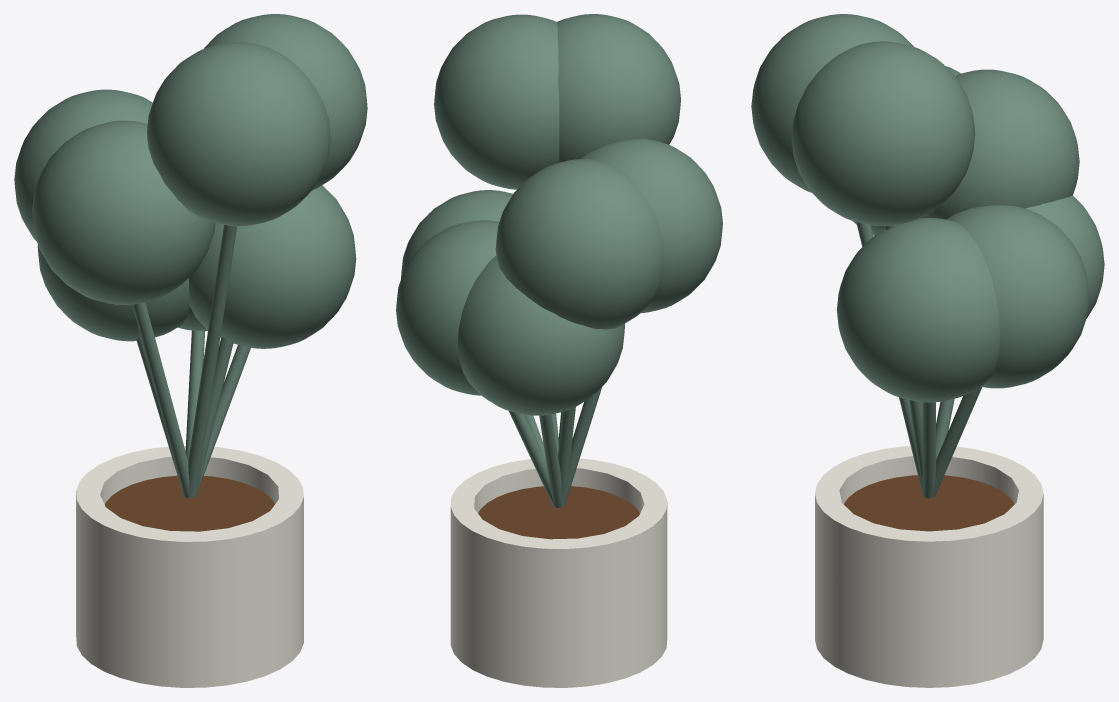
The model's file is kitchen-herb-planter.gltf.
The picture shows the model from 3 angles, left to right: view 1: azimuth 30°, elevation 25°; view 2: azimuth 150°, elevation 25°; view 3: azimuth 270°, elevation 25°; orthographic projection. The views are drawn at different scales.
Visible parts, largest first — view 1: Kitchen herb pot, Kitchen herb pot leaf 2, Kitchen herb pot leaf 4, Kitchen herb pot leaf 0, Kitchen herb pot leaf 5, Kitchen herb pot soil, Kitchen herb pot leaf 1, Kitchen herb pot leaf 6, Kitchen herb pot stem 2, Kitchen herb pot stem 4, Kitchen herb pot stem 0, Kitchen herb pot stem 3 (+1 smaller); view 2: Kitchen herb pot, Kitchen herb pot leaf 1, Kitchen herb pot leaf 5, Kitchen herb pot leaf 6, Kitchen herb pot leaf 2, Kitchen herb pot leaf 4, Kitchen herb pot leaf 3, Kitchen herb pot soil, Kitchen herb pot leaf 0, Kitchen herb pot stem 6, Kitchen herb pot stem 4, Kitchen herb pot stem 3 (+1 smaller); view 3: Kitchen herb pot, Kitchen herb pot leaf 5, Kitchen herb pot leaf 0, Kitchen herb pot leaf 3, Kitchen herb pot leaf 1, Kitchen herb pot leaf 2, Kitchen herb pot soil, Kitchen herb pot leaf 6, Kitchen herb pot stem 3, Kitchen herb pot stem 0, Kitchen herb pot stem 2, Kitchen herb pot stem 5 (+1 smaller).
Boxes of the visible parts, x1,y1,x2,y2 form: Kitchen herb pot: [76, 446, 303, 687]; Kitchen herb pot leaf 2: [147, 42, 330, 226]; Kitchen herb pot leaf 4: [32, 120, 215, 304]; Kitchen herb pot leaf 0: [189, 185, 356, 348]; Kitchen herb pot leaf 5: [204, 14, 367, 190]; Kitchen herb pot soil: [105, 475, 274, 531]; Kitchen herb pot leaf 1: [14, 89, 152, 241]; Kitchen herb pot leaf 6: [37, 245, 189, 341]; Kitchen herb pot stem 2: [188, 225, 236, 497]; Kitchen herb pot stem 4: [132, 302, 190, 497]; Kitchen herb pot stem 0: [195, 345, 250, 496]; Kitchen herb pot stem 3: [185, 330, 205, 460]; Kitchen herb pot: [450, 458, 667, 687]; Kitchen herb pot leaf 1: [495, 159, 664, 329]; Kitchen herb pot leaf 5: [434, 14, 559, 189]; Kitchen herb pot leaf 6: [457, 256, 624, 415]; Kitchen herb pot leaf 2: [557, 14, 680, 162]; Kitchen herb pot leaf 4: [580, 138, 722, 313]; Kitchen herb pot leaf 3: [396, 220, 499, 395]; Kitchen herb pot soil: [478, 486, 639, 539]; Kitchen herb pot leaf 0: [401, 190, 512, 278]; Kitchen herb pot stem 6: [539, 414, 562, 507]; Kitchen herb pot stem 4: [562, 387, 601, 506]; Kitchen herb pot stem 3: [508, 411, 554, 506]; Kitchen herb pot: [815, 446, 1043, 687]; Kitchen herb pot leaf 5: [791, 41, 975, 225]; Kitchen herb pot leaf 0: [836, 217, 999, 402]; Kitchen herb pot leaf 3: [946, 205, 1089, 388]; Kitchen herb pot leaf 1: [928, 69, 1079, 219]; Kitchen herb pot leaf 2: [751, 14, 913, 192]; Kitchen herb pot soil: [843, 475, 1014, 531]; Kitchen herb pot leaf 6: [1025, 195, 1104, 318]; Kitchen herb pot stem 3: [931, 386, 981, 497]; Kitchen herb pot stem 0: [922, 402, 935, 498]; Kitchen herb pot stem 2: [856, 222, 923, 495]; Kitchen herb pot stem 5: [884, 225, 922, 492].
Size of the model in its own units: 0.264 by 0.5087 by 0.2627.
